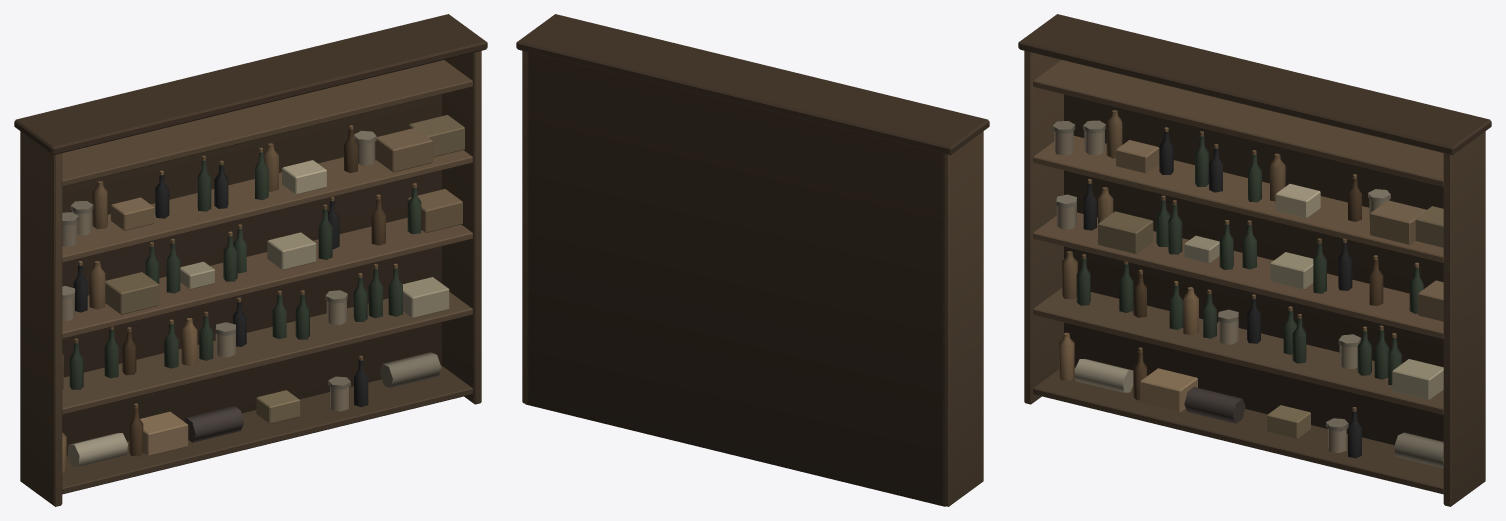
The model's file is estante.glb.
3 renders of one model, left to right at view 1: azimuth 30°, elevation 25°; view 2: azimuth 150°, elevation 25°; view 3: azimuth 330°, elevation 25°, orthographic.
Parts seen in each view (by area): view 1: Estante; view 2: Estante; view 3: Estante.
Part boxes in pixels (box(x1,y1,x2,y2)): Estante: box(14, 14, 487, 506); Estante: box(516, 14, 989, 506); Estante: box(1018, 14, 1491, 506).
Bounding box in the file's own units: 2.7 × 2.14 × 0.42.
